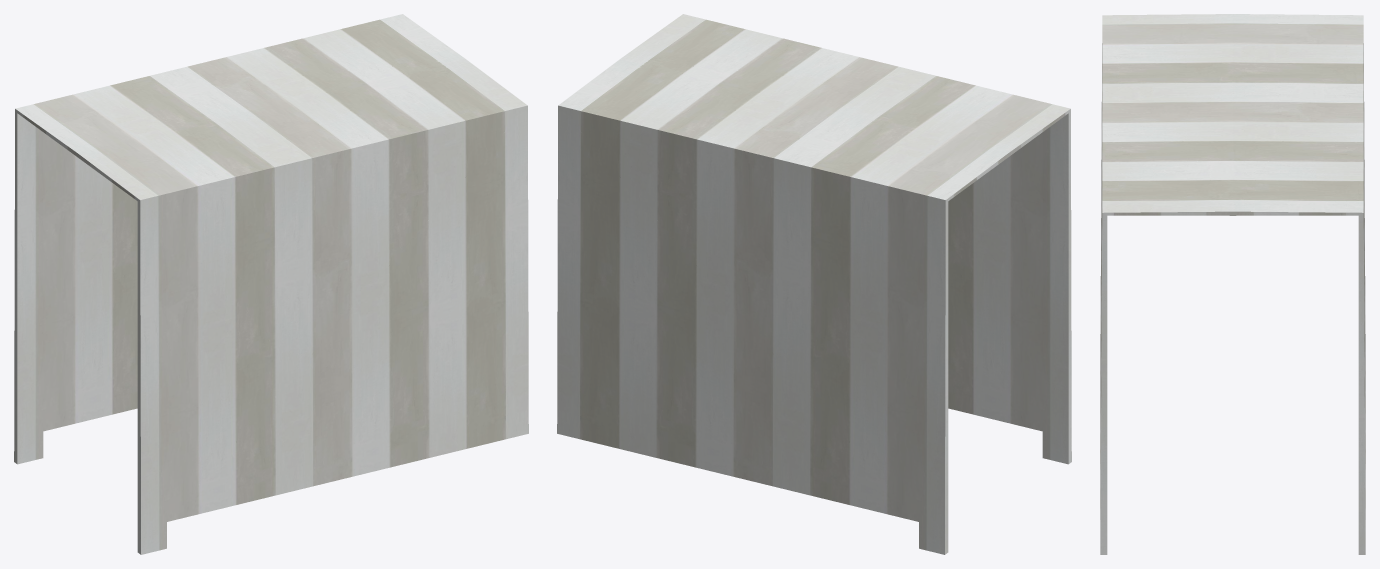
File: PartyRoomHallway.fbx
3 renders of one model, left to right at view 1: azimuth 30°, elevation 25°; view 2: azimuth 150°, elevation 25°; view 3: azimuth 270°, elevation 25°, orthographic. The views are drawn at different scales.
Visible parts, largest first — view 1: Doorway__1_; view 2: Doorway__1_; view 3: Doorway__1_.
Part boxes in pixels (x1,y1,x2,y2): Doorway__1_: [14, 14, 528, 554]; Doorway__1_: [557, 14, 1071, 554]; Doorway__1_: [1100, 14, 1365, 554].
Bounding box in the file's own units: 1027 × 900 × 583.
